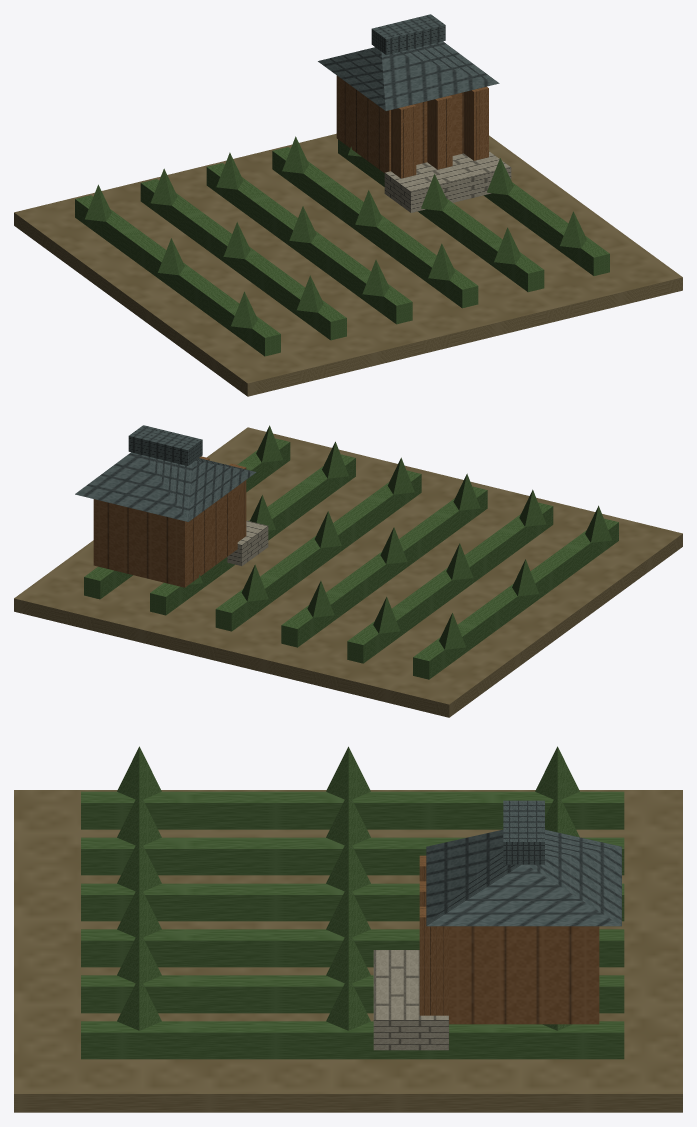
Rendered from domestic-FARM-3-lod0.glb.
3 renders of one model, top to bottom at view 1: azimuth 30°, elevation 25°; view 2: azimuth 150°, elevation 25°; view 3: azimuth 270°, elevation 25°, orthographic. The views are drawn at different scales.
Bounding box in the file's own units: 0.86 × 0.296 × 0.8.
Materials: 1 (1 with a texture image).
